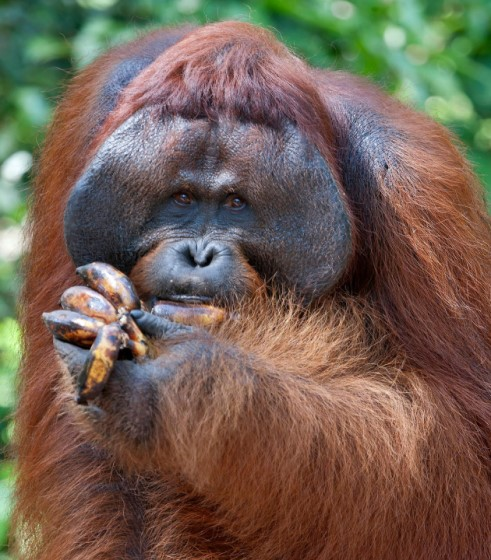Orangutan: (32, 48, 477, 536)
